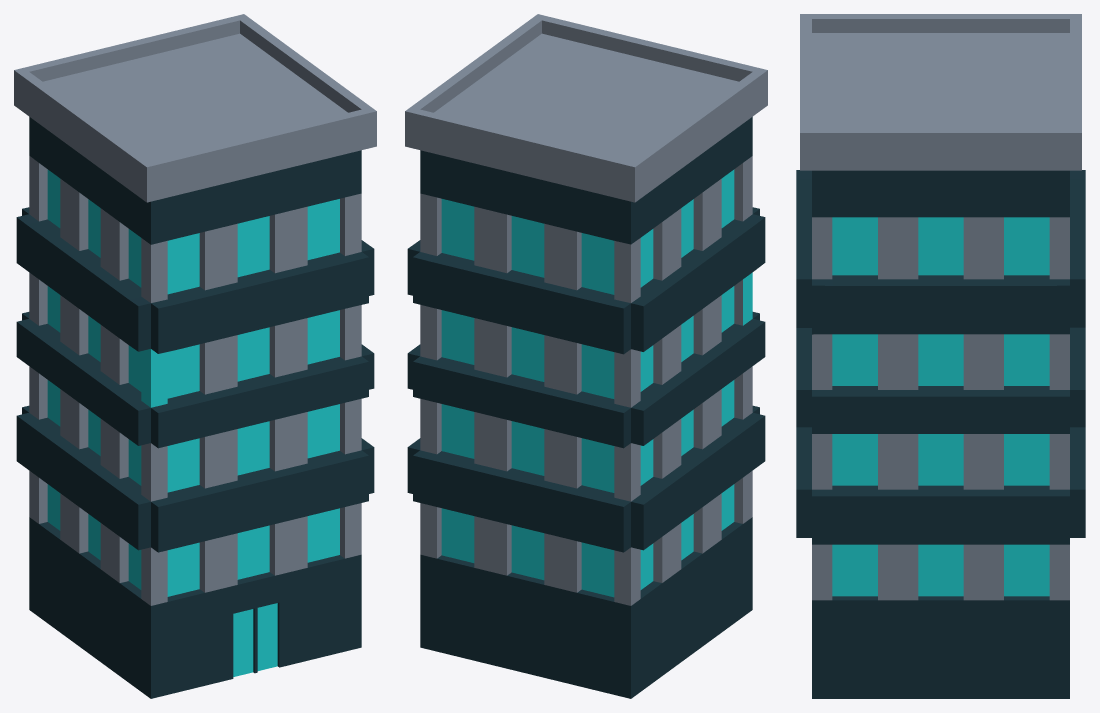
The model's file is Building2_3.fbx.
3 views of the same model, side by side, from view 1: azimuth 30°, elevation 25°; view 2: azimuth 150°, elevation 25°; view 3: azimuth 270°, elevation 25° (orthographic). The views are drawn at different scales.
Visible parts, largest first — view 1: Building2_3; view 2: Building2_3; view 3: Building2_3.
Part boxes in pixels (x1=…): Building2_3: x1=14, y1=14, x2=376, y2=698; Building2_3: x1=405, y1=14, x2=767, y2=698; Building2_3: x1=796, y1=14, x2=1085, y2=698.
Bounding box in the file's own units: 1347 × 2937 × 1347.
